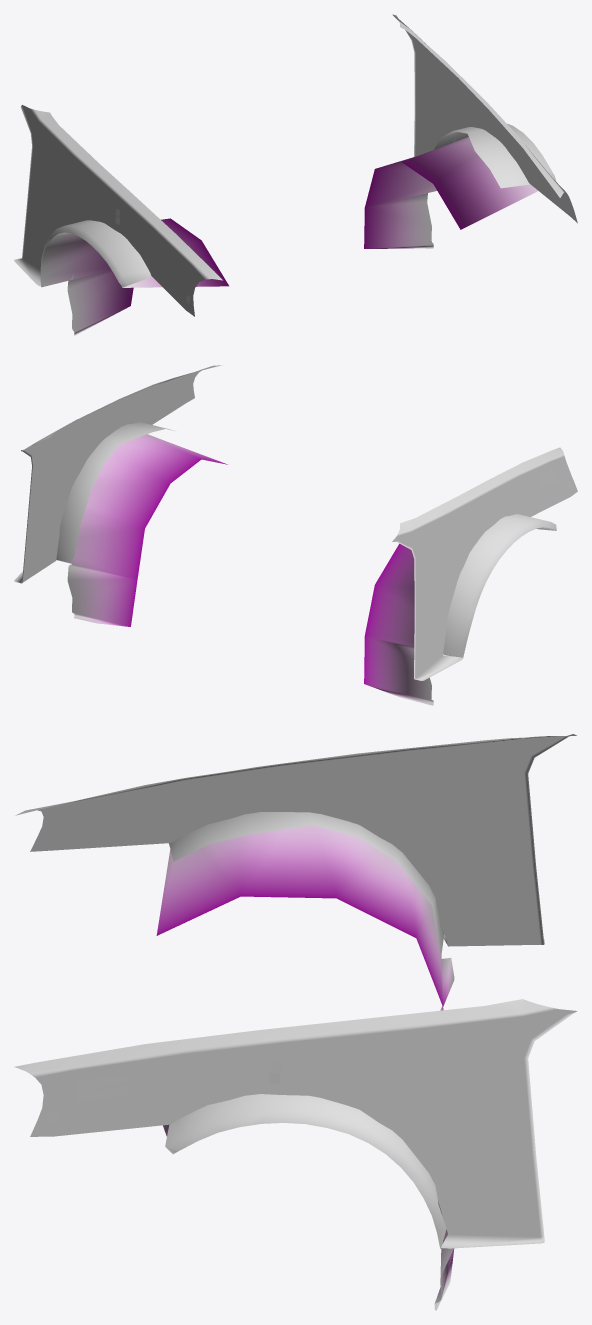
The model's file is Car_Nissan_SkylineGTRVspecR34_1999_FendersChassisF_SetA_AltA.fbx.
3 views of the same model, one above another, from view 1: azimuth 30°, elevation 25°; view 2: azimuth 150°, elevation 25°; view 3: azimuth 270°, elevation 25° (orthographic). The views are drawn at different scales.
Visible parts, largest first — view 1: FendersChassisF 6; view 2: FendersChassisF 6; view 3: FendersChassisF 6.
Boxes of the visible parts, x1,y1,x2,y2 form: FendersChassisF 6: (14,14,577,335); FendersChassisF 6: (14,365,577,705); FendersChassisF 6: (14,734,577,1310).
Bounding box in the file's own units: 1.77 × 0.7819 × 1.3.
